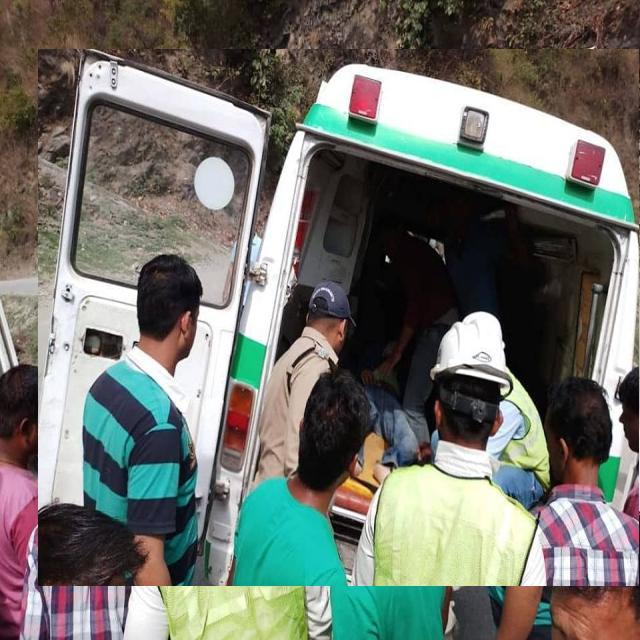emergency: (39, 50, 639, 586)
